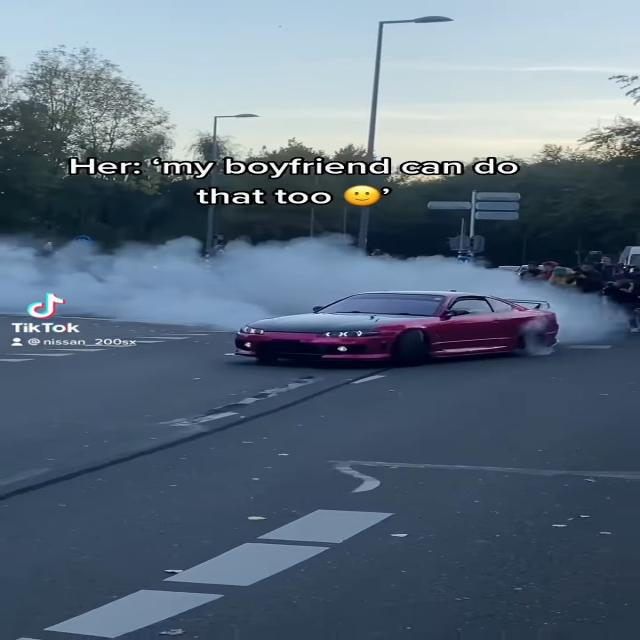car: (231, 290, 569, 371)
